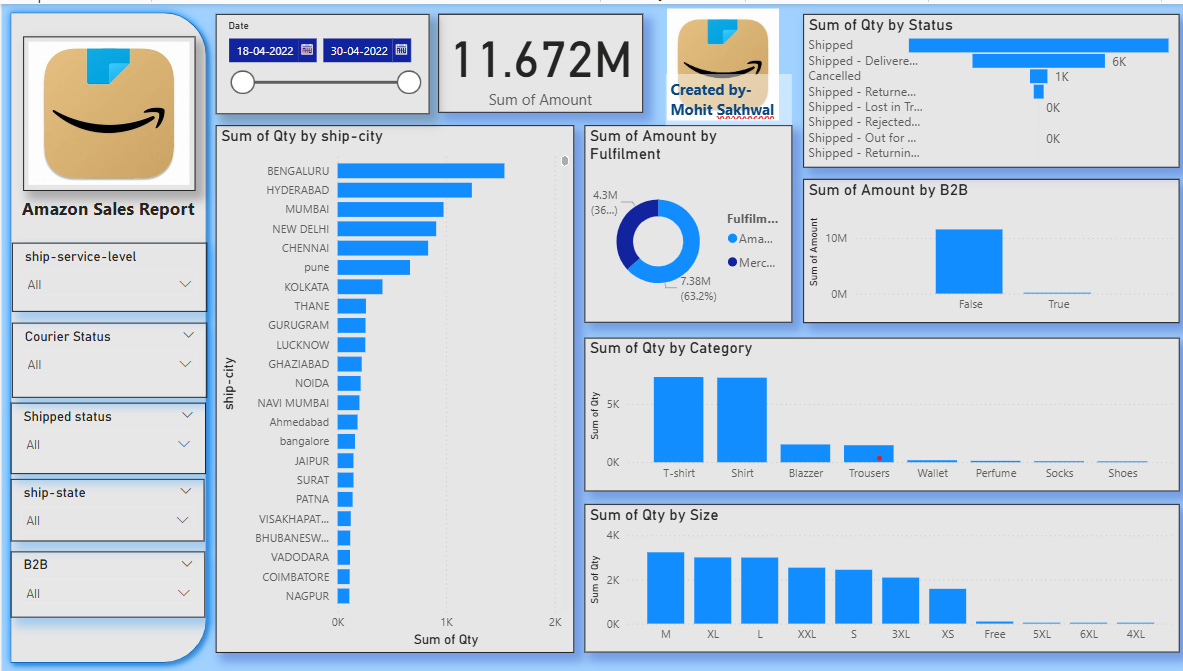

The dashboard page shown, as its layout file describes it:
{"tool":"powerbi","page":{"name":"Page 1","canvas":[1280,720],"ordinal":0},"visuals":[{"type":"shape","box":[0,0,229.9,720.2],"z":0},{"type":"image","box":[23.3,35.7,185.2,166],"z":1000},{"type":"textbox","box":[9.6,201.7,209.9,64.5],"z":2000},{"type":"slicer","fields":{"Values":["Amazon Sale Report.Date"]},"box":[230.4,10.8,230.4,107.8],"z":3000},{"type":"slicer","fields":{"Values":["Amazon Sale Report.B2B"]},"box":[9.6,590.1,209.9,71.4],"z":4000},{"type":"slicer","fields":{"Values":["Amazon Sale Report.ship-state"]},"box":[9.6,511.8,208.6,67.2],"z":5000},{"type":"slicer","fields":{"Values":["Amazon Sale Report.Courier Status"]},"box":[10.8,343.7,210.2,80.9],"z":6000},{"type":"slicer","fields":{"Values":["Amazon Sale Report.Status"]},"box":[9.4,429.9,210.2,76.8],"z":7000},{"type":"slicer","fields":{"Values":["Amazon Sale Report.ship-service-level"]},"box":[10.8,257.4,210.2,74.1],"z":8000},{"type":"card","fields":{"Values":["Sum(Amazon Sale Report.Amount)"]},"box":[470.3,10.8,221,106.5],"z":9000},{"type":"barChart","fields":{"Category":["Amazon Sale Report.ship-city"],"Y":["Sum(Amazon Sale Report.Qty)"]},"box":[230.4,130.7,386.8,568.7],"z":10000},{"type":"donutChart","fields":{"Category":["Amazon Sale Report.Fulfilment"],"Y":["Sum(Amazon Sale Report.Amount)"]},"box":[628,130.7,223.7,212.9],"z":11000},{"type":"columnChart","fields":{"Category":["Amazon Sale Report.B2B"],"Y":["Sum(Amazon Sale Report.Amount)"]},"box":[863.8,188.7,405.6,155],"z":12000},{"type":"columnChart","fields":{"Category":["Amazon Sale Report.Size"],"Y":["Sum(Amazon Sale Report.Qty)"]},"box":[628,539.1,641.5,160.4],"z":13000},{"type":"columnChart","fields":{"Category":["Amazon Sale Report.Category"],"Y":["Sum(Amazon Sale Report.Qty)"]},"box":[628,359.8,641.5,165.8],"z":14000},{"type":"image","box":[691.3,0,172.5,130.7],"z":15000},{"type":"funnel","fields":{"Category":["Amazon Sale Report.Status"],"Y":["Sum(Amazon Sale Report.Qty)"]},"box":[863.8,10.8,405.6,165.8],"z":16000},{"type":"slicer","fields":{"Values":["Amazon Sale Report.Date"]},"box":[230.4,10.8,230.4,107.8],"z":17000},{"type":"textbox","box":[715.6,75.5,136.1,55.3],"z":18000}]}

Visuals, with their boxes in screenshot pixels (x1, y1, x2, y2), scaled from the page's 1280x720 canvas onto the 1183x671 screenshot:
shape: x1=0 y1=0 x2=212 y2=670
image: x1=22 y1=33 x2=193 y2=188
textbox: x1=9 y1=188 x2=203 y2=248
slicer - Amazon Sale Report.Date: x1=213 y1=10 x2=426 y2=111
slicer - Amazon Sale Report.B2B: x1=9 y1=550 x2=203 y2=616
slicer - Amazon Sale Report.ship-state: x1=9 y1=477 x2=202 y2=540
slicer - Amazon Sale Report.Courier Status: x1=10 y1=320 x2=204 y2=396
slicer - Amazon Sale Report.Status: x1=9 y1=401 x2=203 y2=472
slicer - Amazon Sale Report.ship-service-level: x1=10 y1=240 x2=204 y2=309
card - Sum(Amazon Sale Report.Amount): x1=435 y1=10 x2=639 y2=109
barChart - Amazon Sale Report.ship-city x Sum(Amazon Sale Report.Qty): x1=213 y1=122 x2=570 y2=652
donutChart - Amazon Sale Report.Fulfilment x Sum(Amazon Sale Report.Amount): x1=580 y1=122 x2=787 y2=320
columnChart - Amazon Sale Report.B2B x Sum(Amazon Sale Report.Amount): x1=798 y1=176 x2=1173 y2=320
columnChart - Amazon Sale Report.Size x Sum(Amazon Sale Report.Qty): x1=580 y1=502 x2=1173 y2=652
columnChart - Amazon Sale Report.Category x Sum(Amazon Sale Report.Qty): x1=580 y1=335 x2=1173 y2=490
image: x1=639 y1=0 x2=798 y2=122
funnel - Amazon Sale Report.Status x Sum(Amazon Sale Report.Qty): x1=798 y1=10 x2=1173 y2=165
slicer - Amazon Sale Report.Date: x1=213 y1=10 x2=426 y2=111
textbox: x1=661 y1=70 x2=787 y2=122
